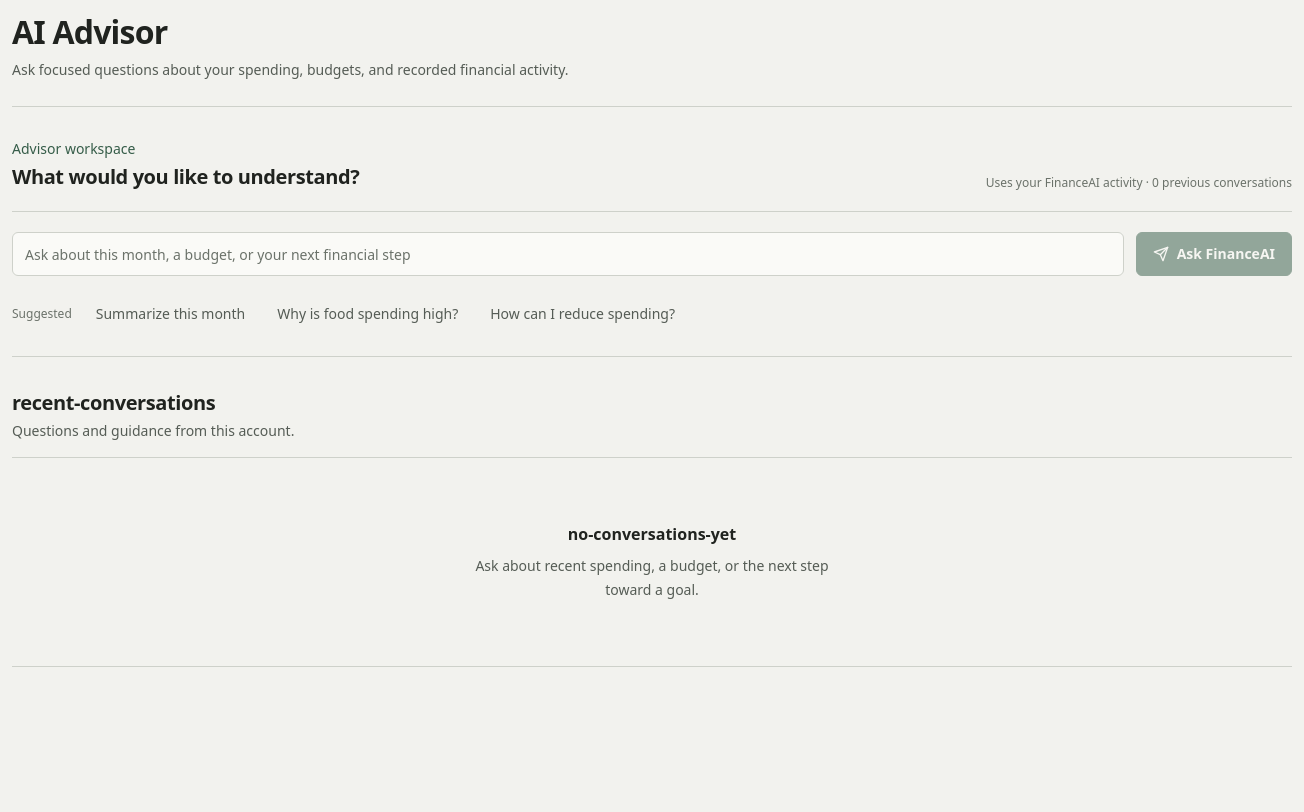
Scenario: AI Advisor workspace › submits a focused question and adds the response to the workspace
Check: the heading "no-conversations-yet" is shown, box [568, 523, 736, 545]
Type "What should I prioritize?" into the field named "ask-financial-question" at (568, 254), box [12, 232, 1124, 276]
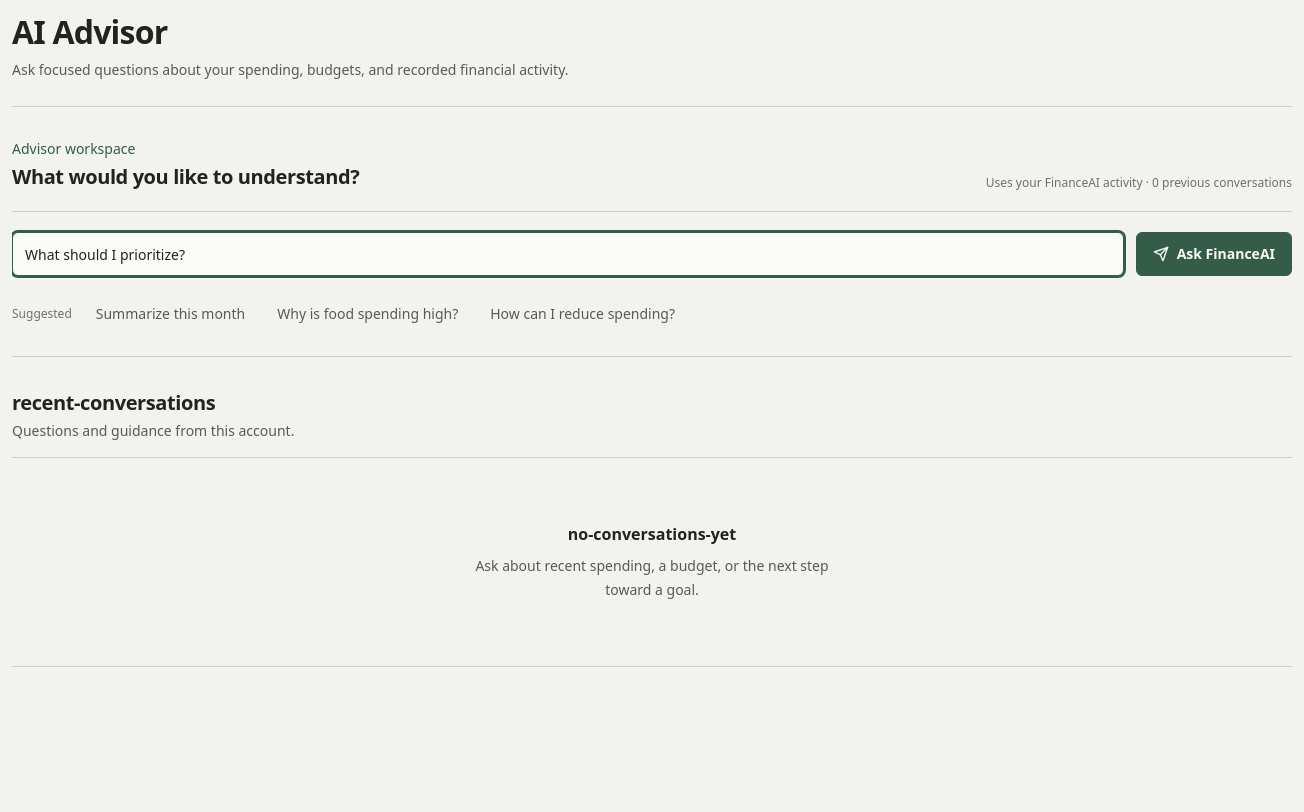
Click the button "Ask FinanceAI" at (1214, 254), box [1136, 232, 1292, 276]
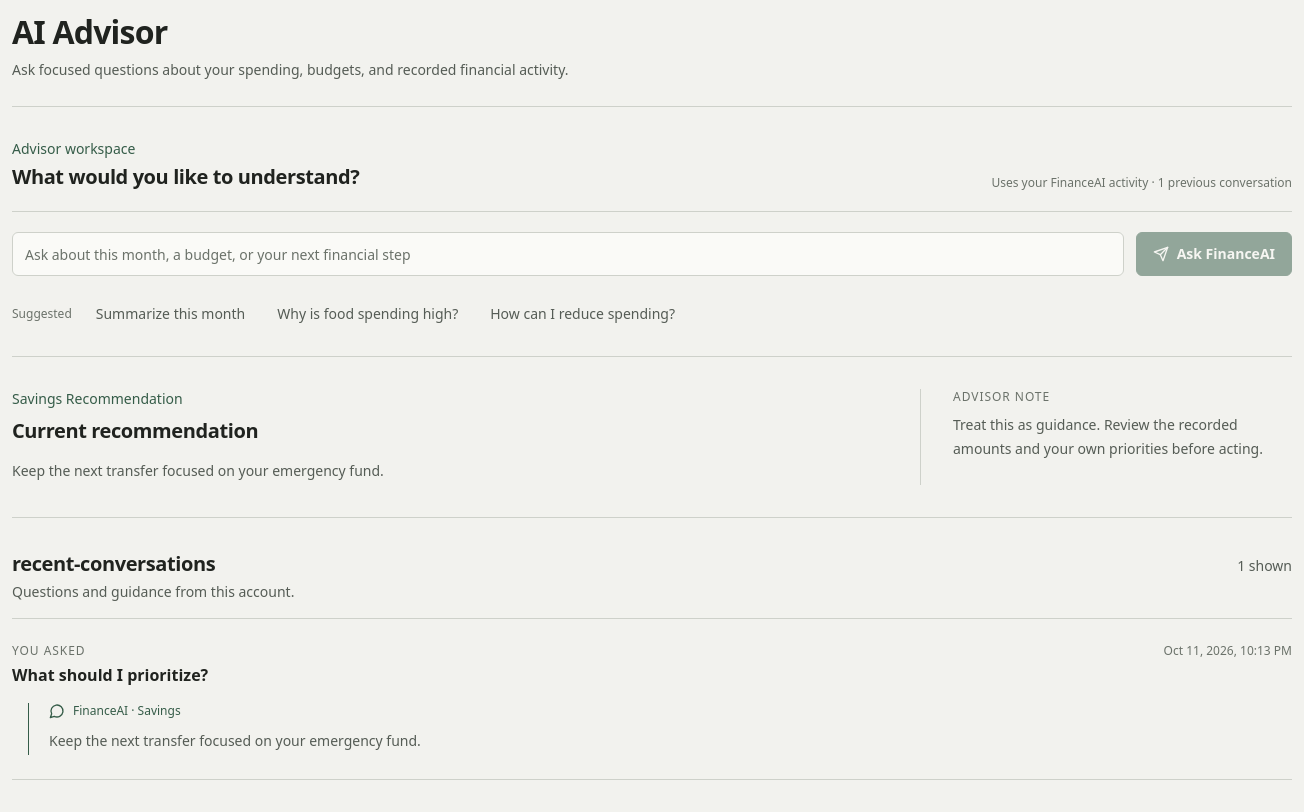
Check: the text "Keep the next transfer focused on your emergency fund." is shown 2 times, box [12, 461, 384, 480]; [49, 731, 421, 750]
Check: the heading "What should I prioritize?" is shown, box [12, 663, 208, 687]
